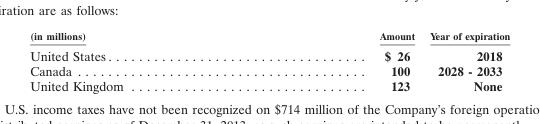table: (29, 29, 509, 93)
table column: (29, 29, 250, 93), (250, 29, 421, 93), (421, 29, 509, 93)
table column header: (29, 29, 509, 62)
table row: (29, 29, 509, 62), (29, 62, 509, 78), (29, 78, 509, 93)
